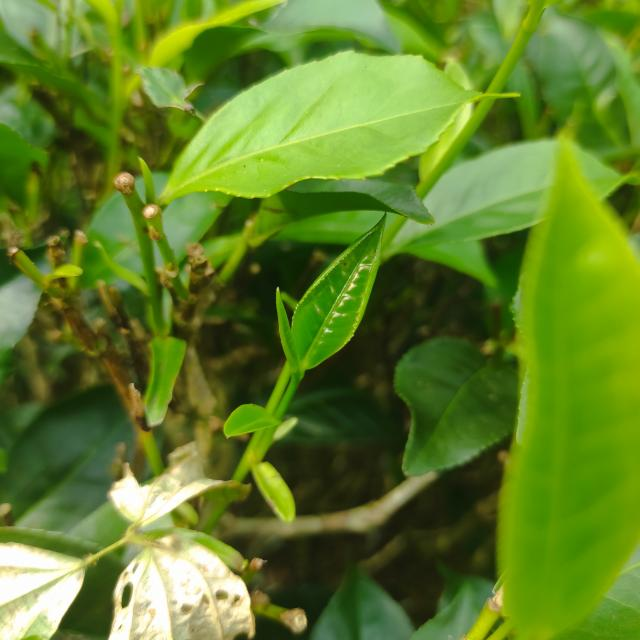unopened_leaf: (268, 279, 308, 384), (133, 150, 164, 207)
